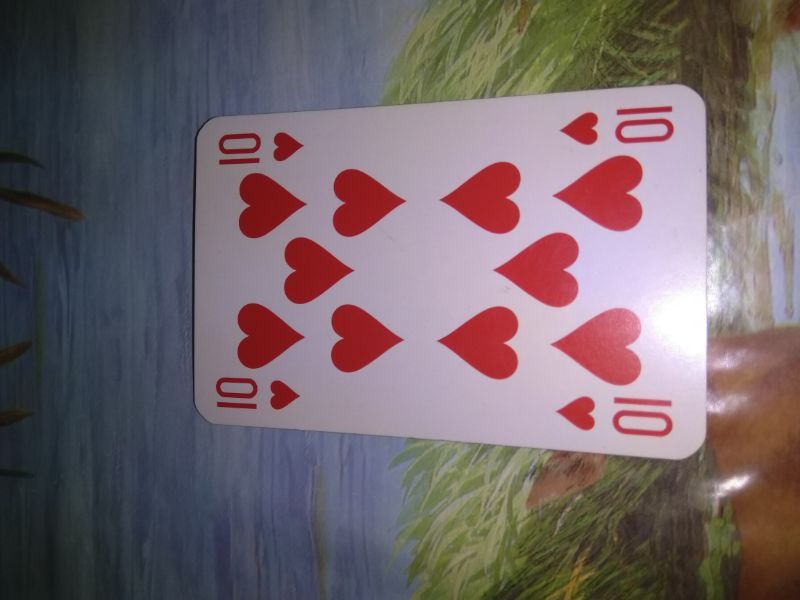Th: (546, 385, 680, 439), (555, 99, 678, 147), (204, 371, 311, 414), (210, 125, 307, 168)
